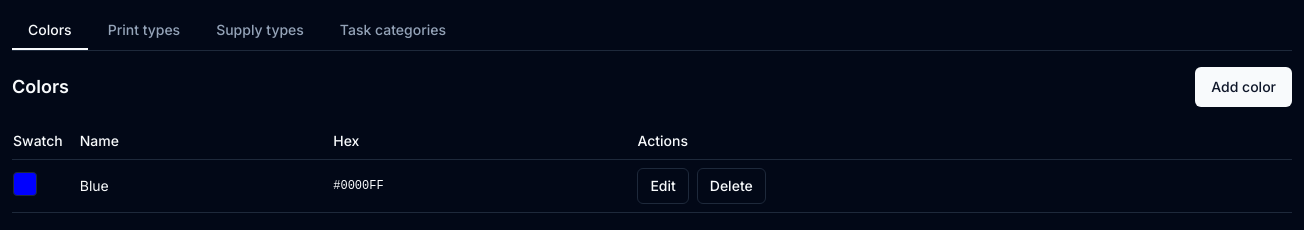
Scenario: CatalogTabs (R4, R8) › switches panels on tab click
Click the tab "Print types". click: [144, 31]
box: [92,12,196,50]
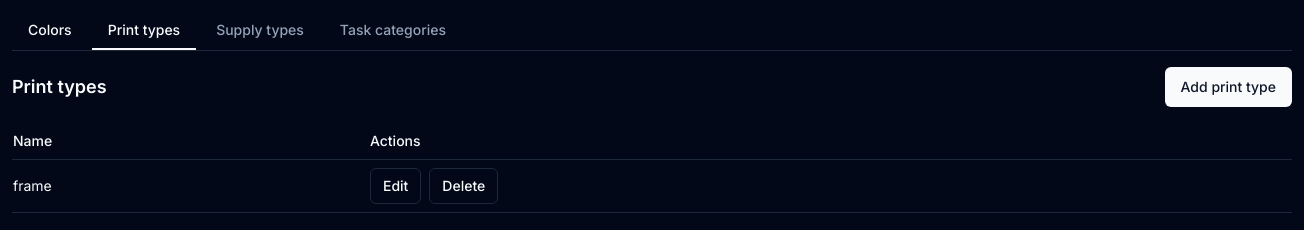
Result: the text "frame" is shown at [12,160,369,212]
Result: the text "Blue" is gone
